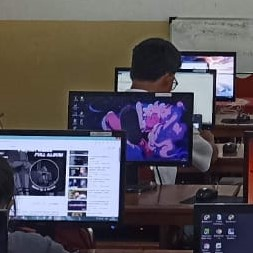monitor: (0, 129, 127, 225), (67, 90, 194, 167), (113, 67, 217, 132), (178, 51, 237, 102), (192, 203, 253, 251), (173, 69, 216, 129), (114, 67, 133, 92)
